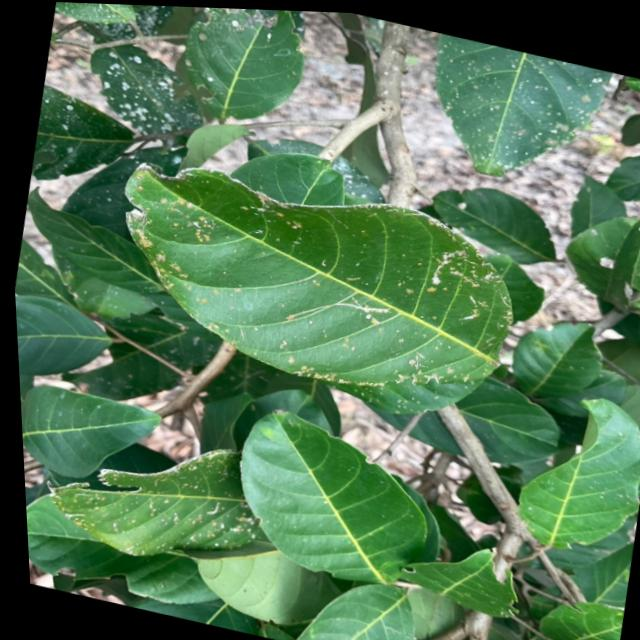Algal Leaf Spot: (410, 28, 633, 210), (46, 1, 206, 155)
